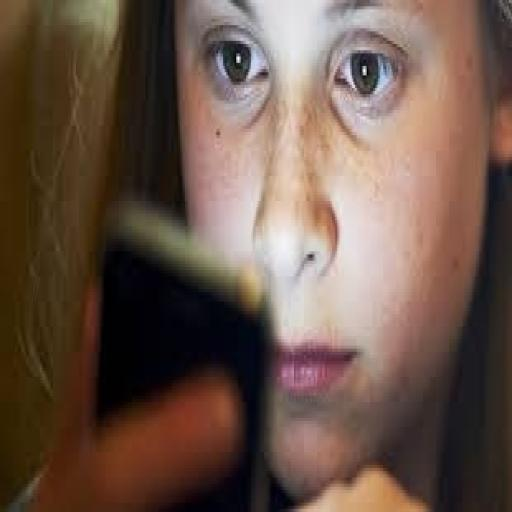texting: (8, 0, 510, 509)
